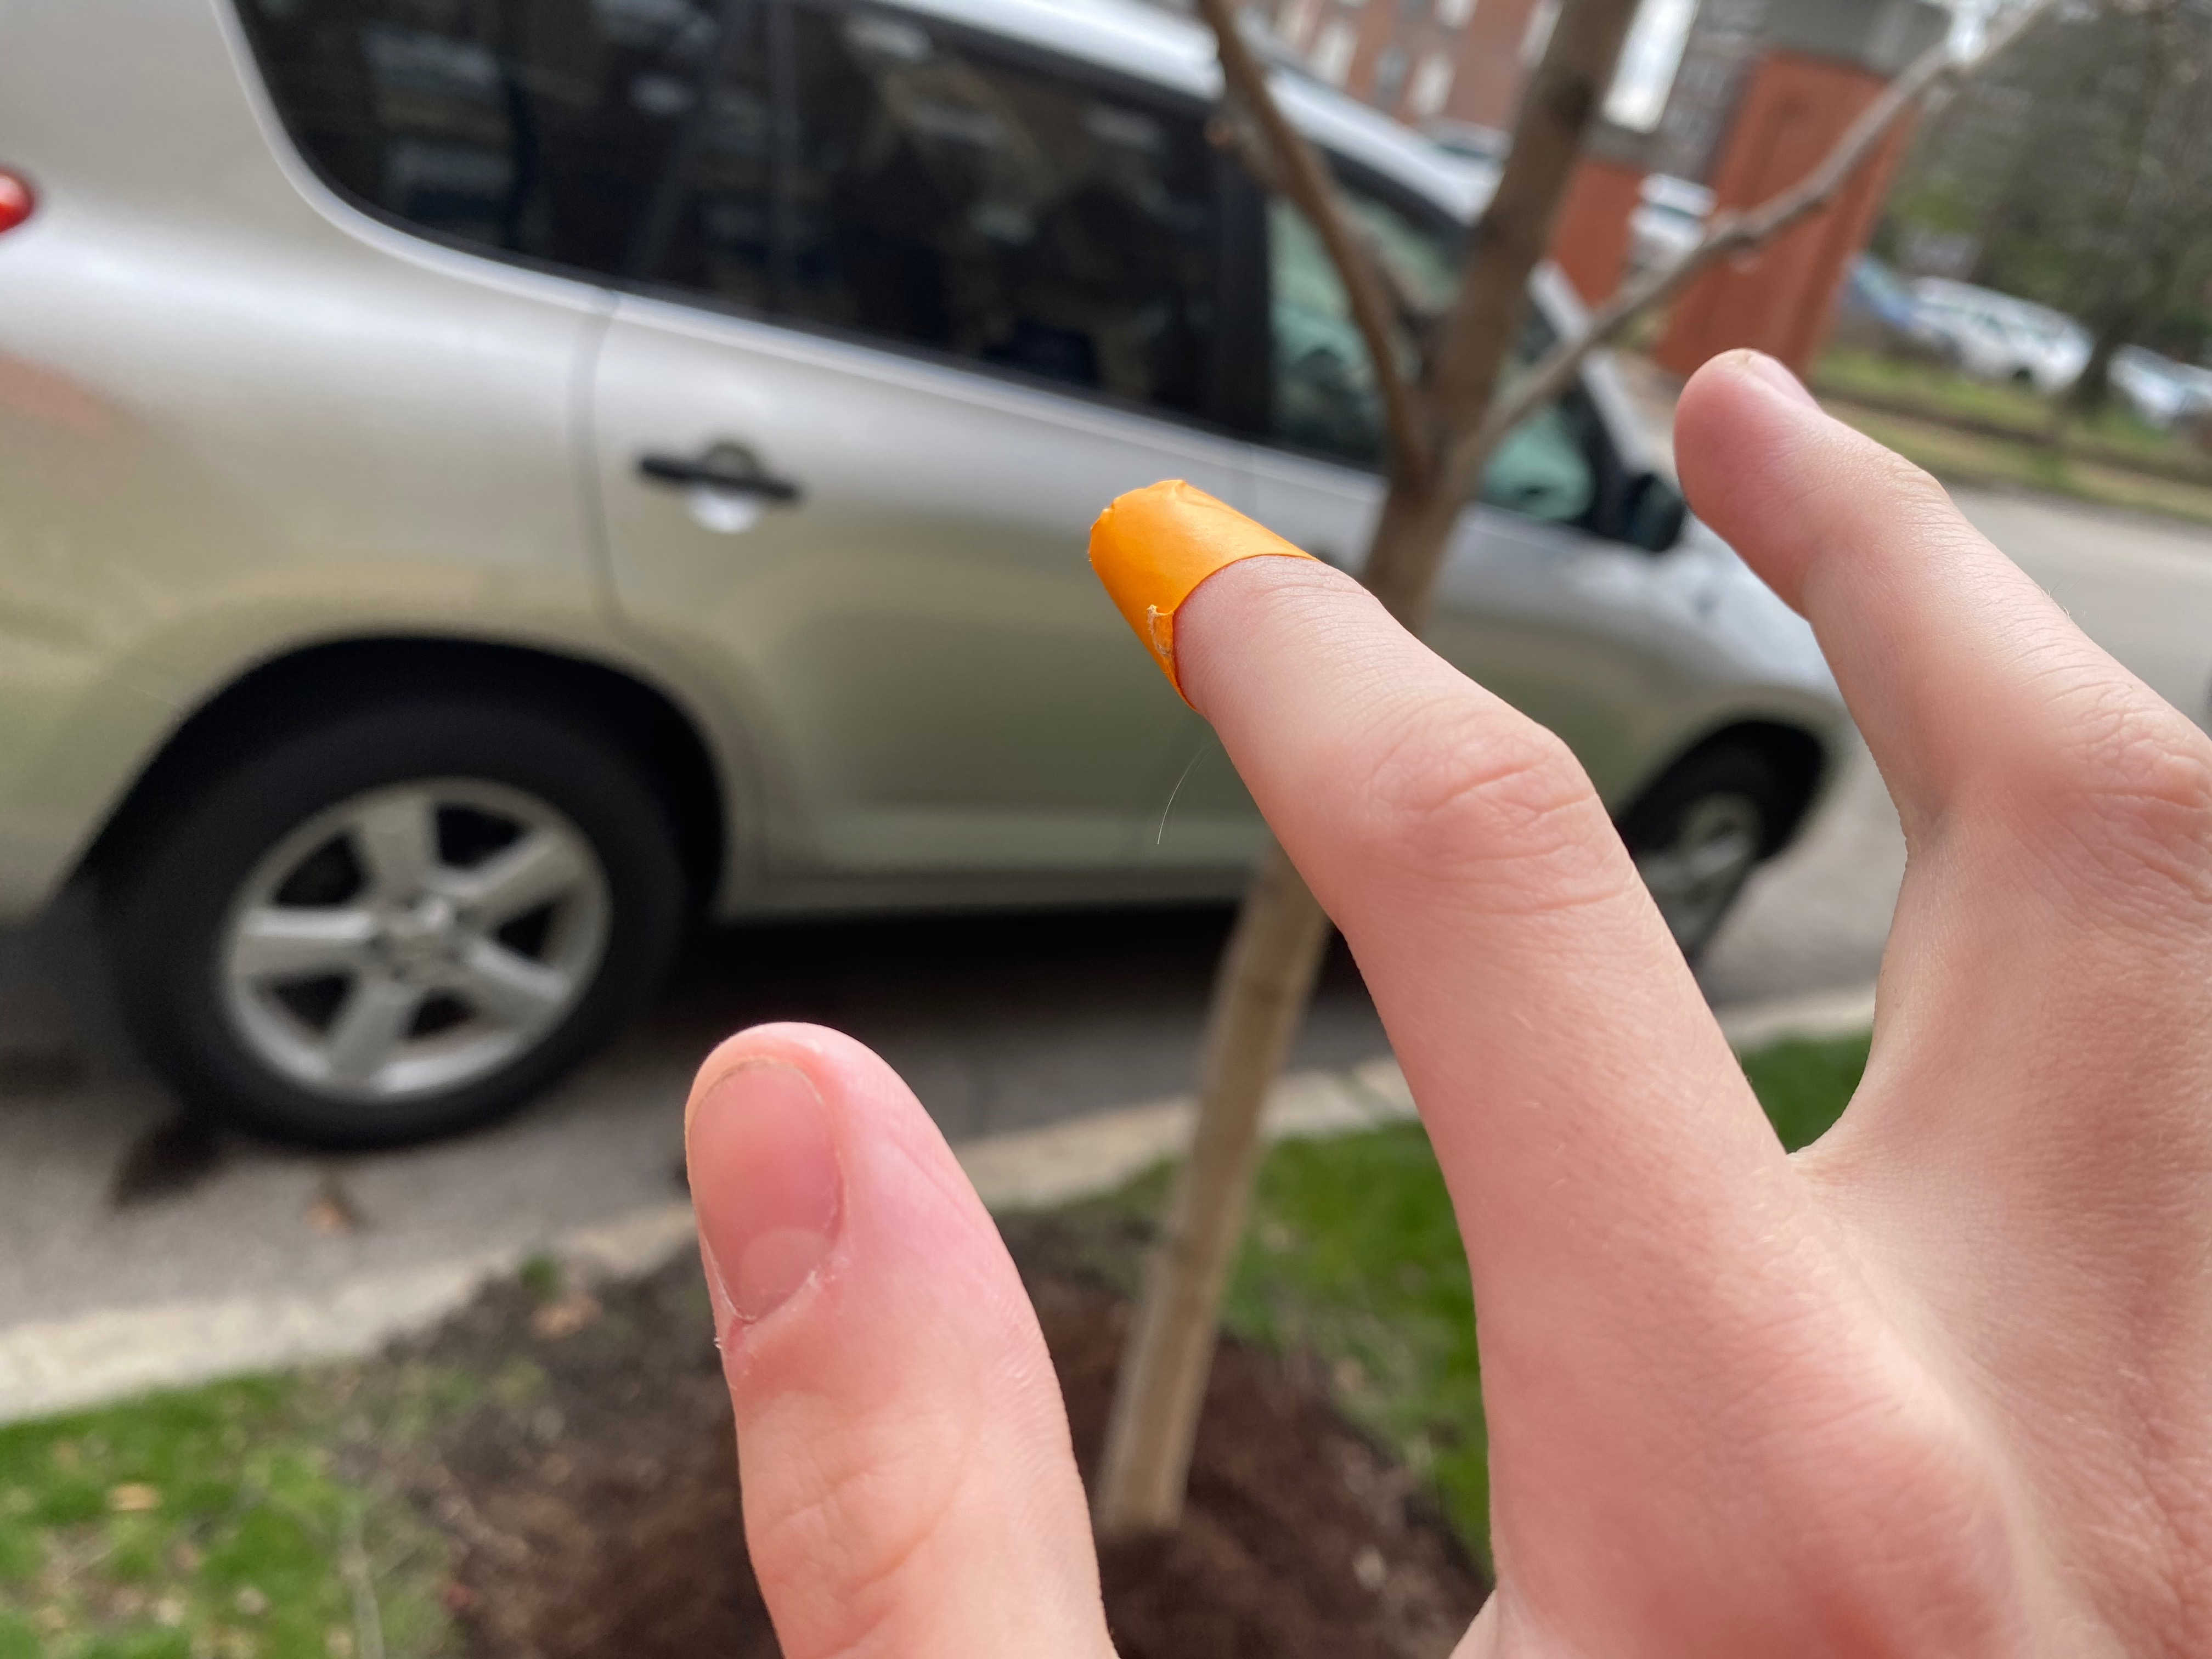fingertip: (1033, 465, 1386, 718)
